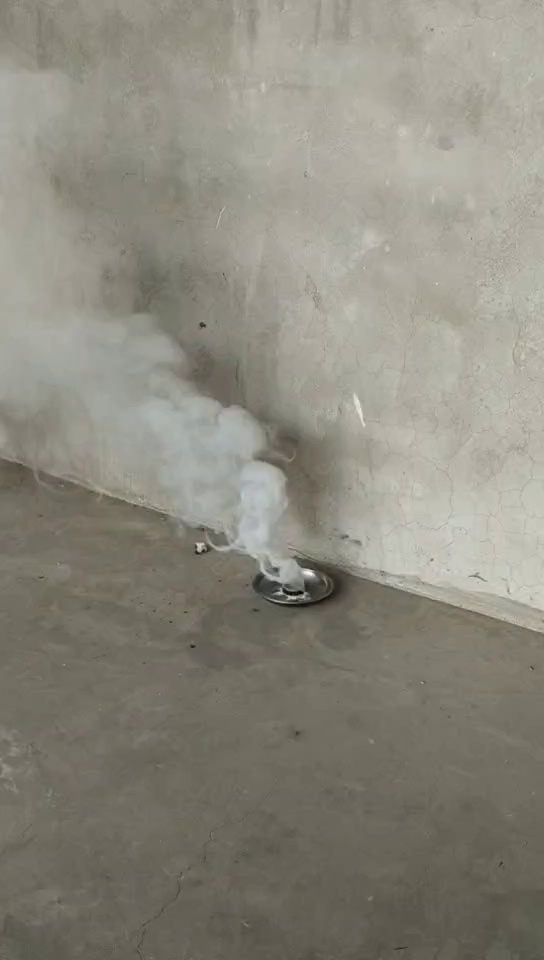smoke: (49, 265, 309, 581)
